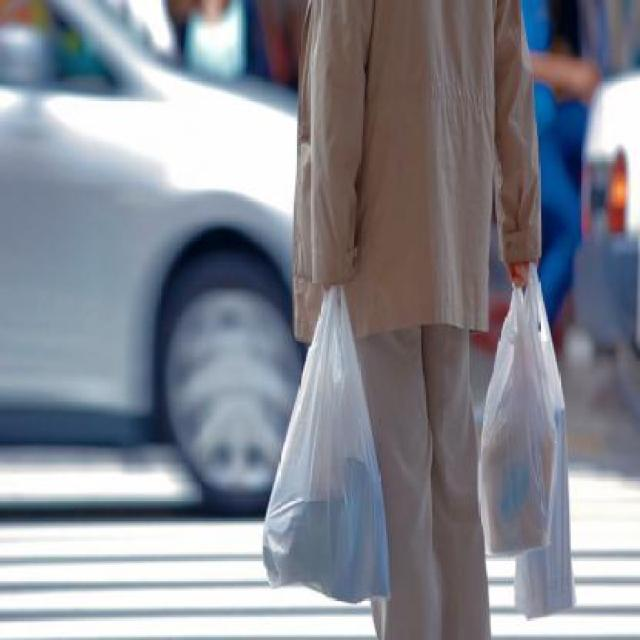plastic bag: (258, 266, 398, 616), (477, 273, 590, 632)
